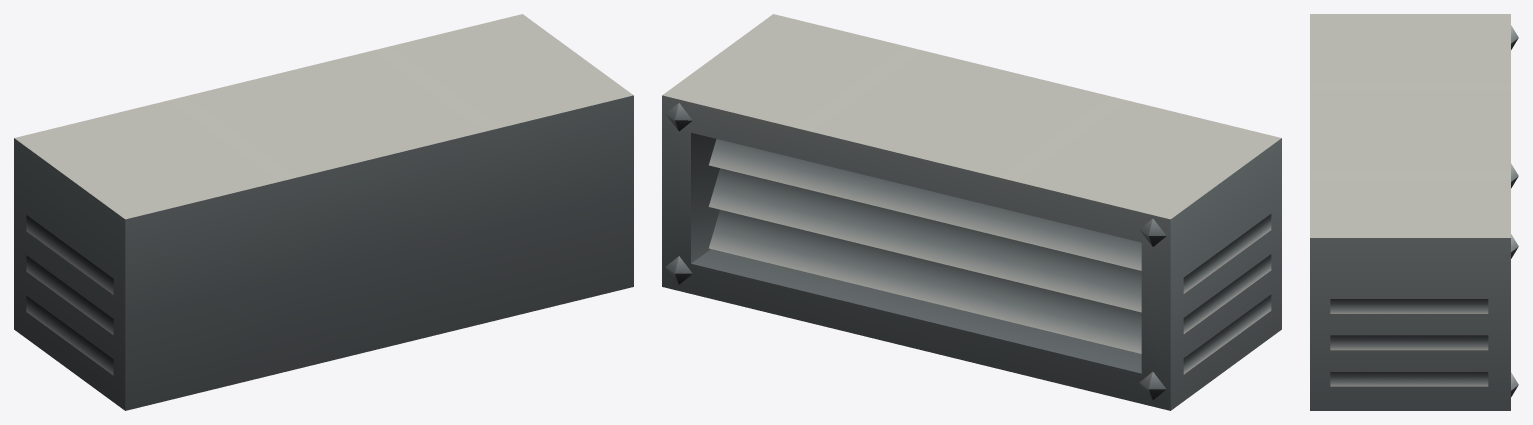
File: Air_Conditioner_3A.fbx
The picture shows the model from 3 angles, left to right: view 1: azimuth 30°, elevation 25°; view 2: azimuth 150°, elevation 25°; view 3: azimuth 270°, elevation 25°; orthographic projection. The views are drawn at different scales.
Parts seen in each view (by area): view 1: Air_Conditioner_3A; view 2: Air_Conditioner_3A; view 3: Air_Conditioner_3A.
Part boxes in pixels (box(x1,y1,x2,y2)): Air_Conditioner_3A: box(14, 14, 633, 410); Air_Conditioner_3A: box(662, 14, 1281, 410); Air_Conditioner_3A: box(1310, 14, 1518, 410).
Size of the model in its own units: 2.64 by 0.95 by 1.04.
